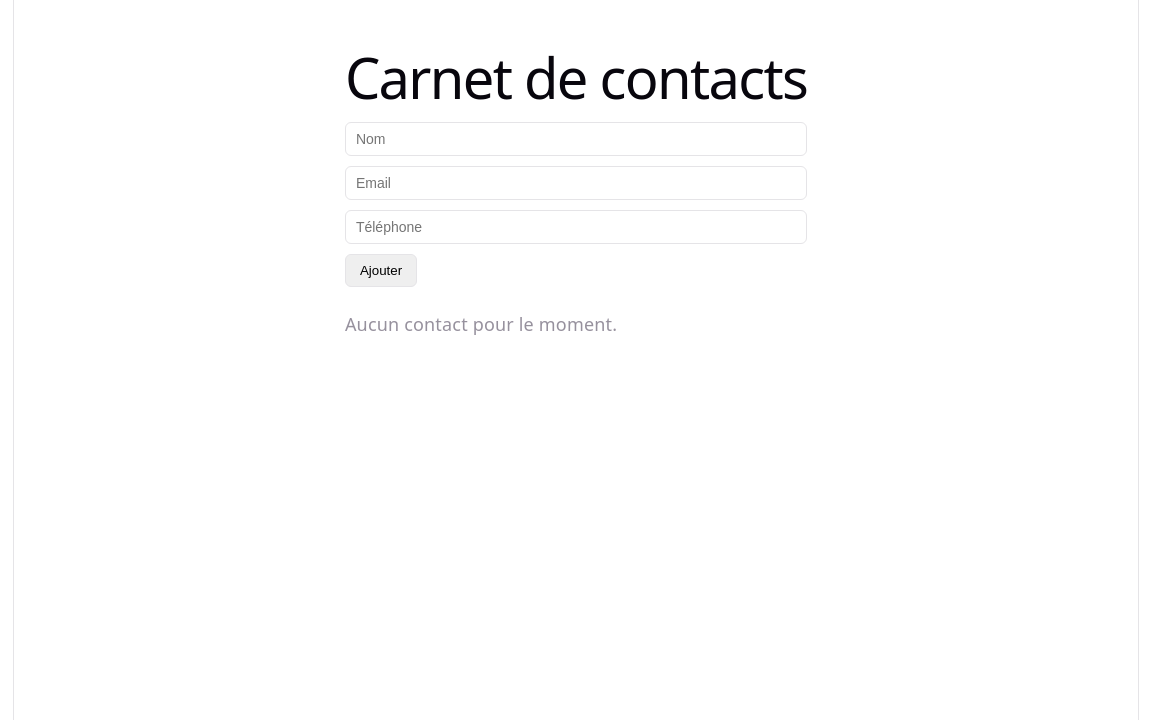
it: Carnet de contacts › modifie un contact existant
Type "Grace Hopper" into the field with placeholder "Nom" at [576, 139], box [345,122,807,156]
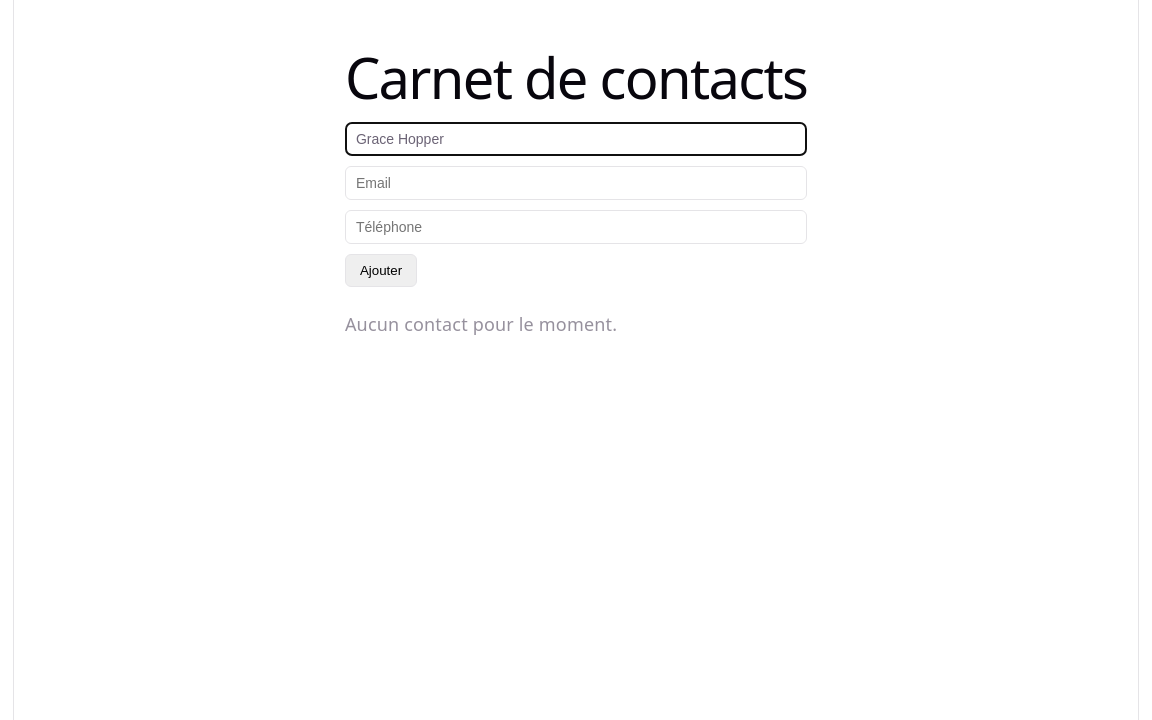
Click the button "Ajouter" at [381, 271], box [345,254,417,287]
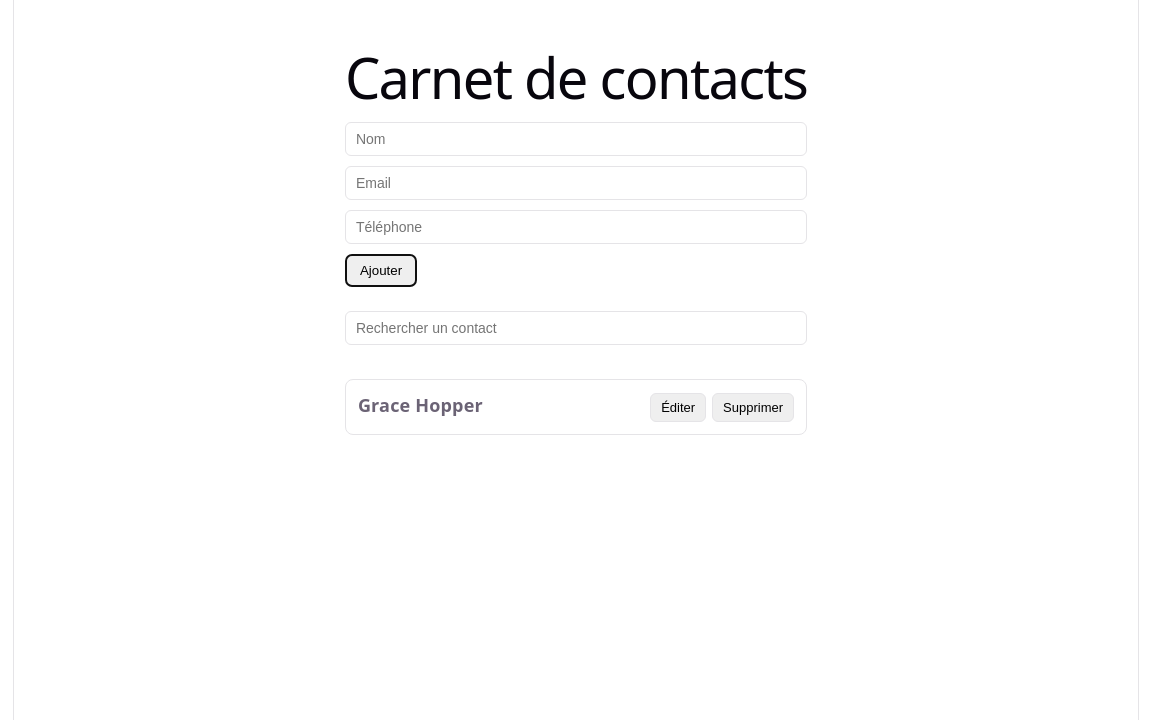
Click the button "Éditer" at [678, 407], box [650,393,706,422]
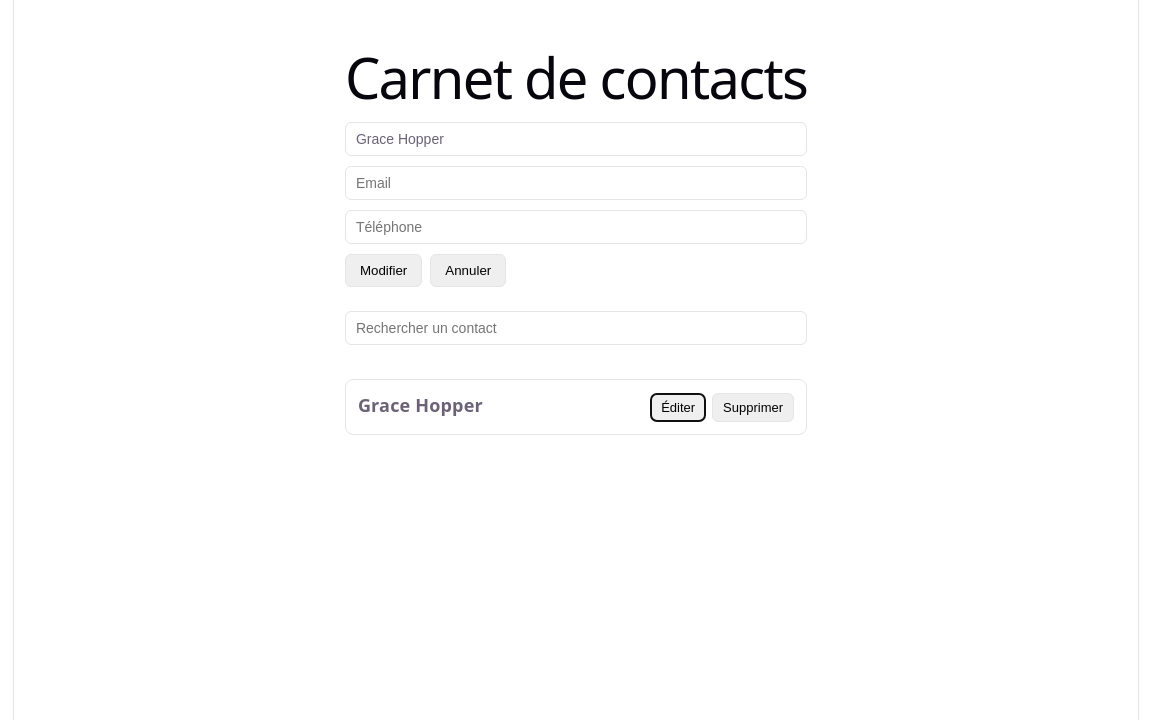
Replace the text in the field with placeholder "Nom" with "Grace Murray Hopper" at [576, 139], box [345,122,807,156]
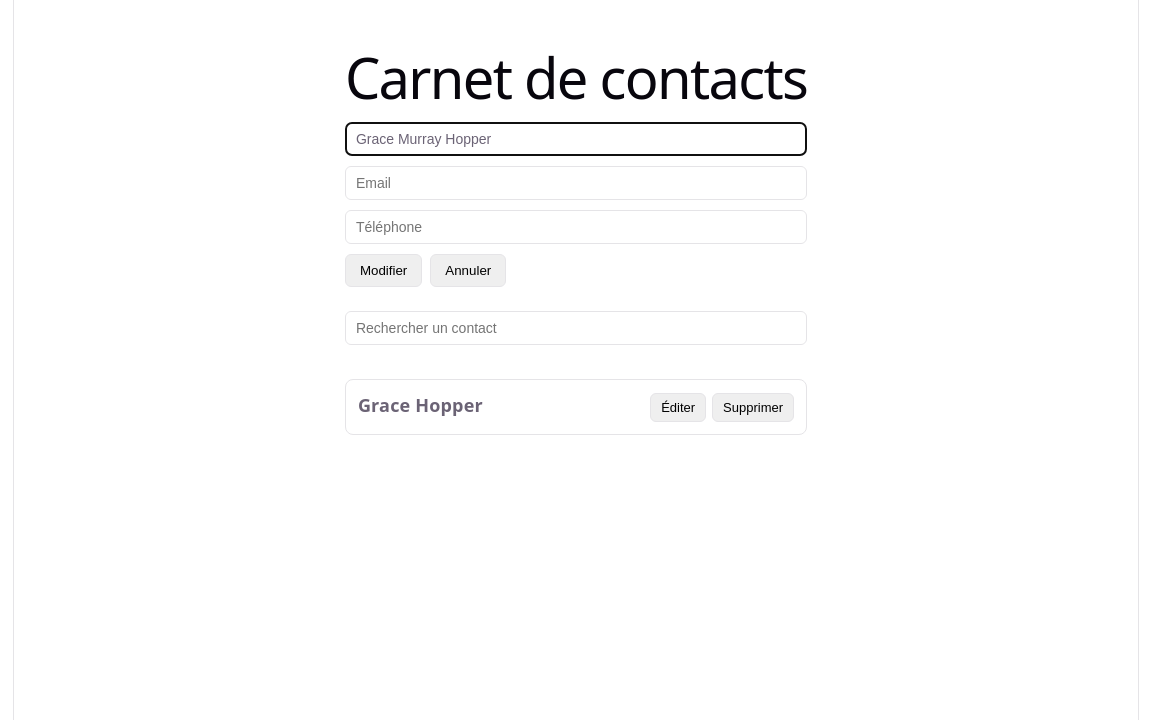
Click the button "Modifier" at [384, 271], box [345,254,422,287]
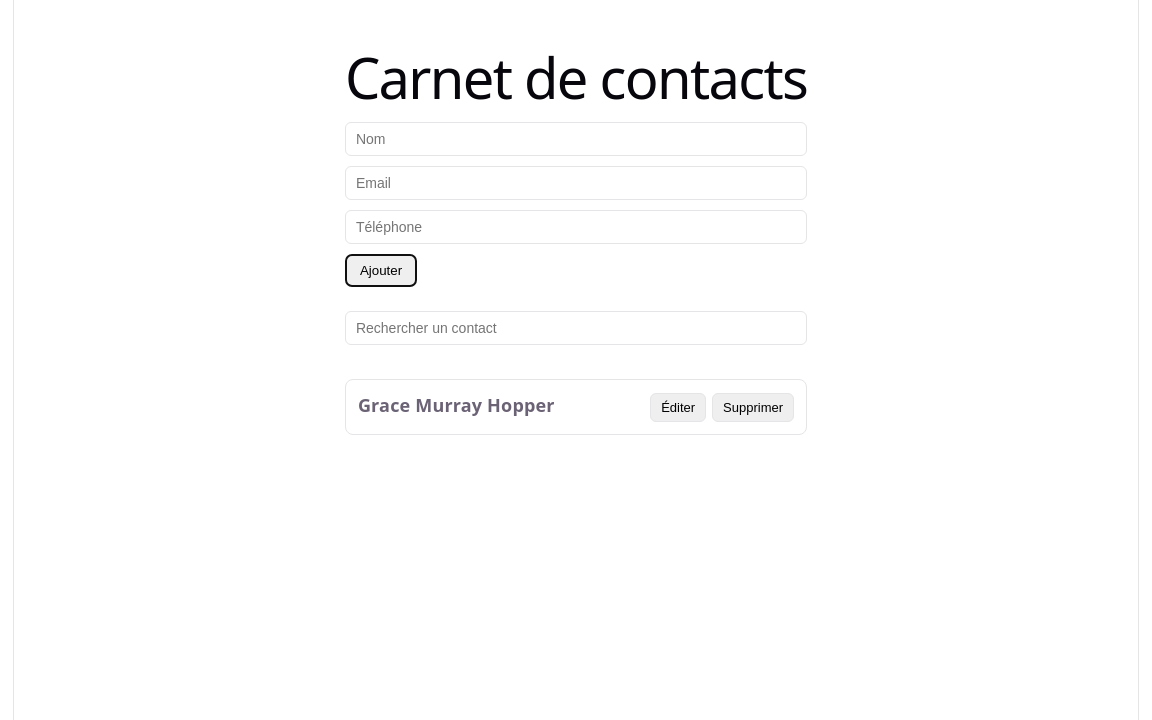
Result: the text "Grace Murray Hopper" is shown at [358,393,555,417]
Result: the text "Grace Hopper" is gone
